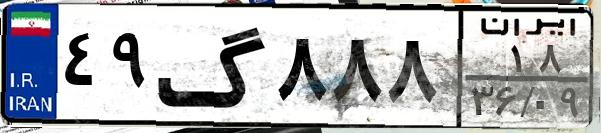0: (535, 70, 560, 125)
1: (508, 27, 537, 80)
3: (470, 70, 495, 125)
4: (57, 26, 110, 100)
6: (495, 70, 520, 125)
8: (270, 28, 330, 110), (385, 28, 445, 110), (330, 28, 385, 110), (537, 27, 568, 80)
9: (110, 28, 156, 98), (560, 70, 590, 125)
گ: (156, 12, 270, 120)
